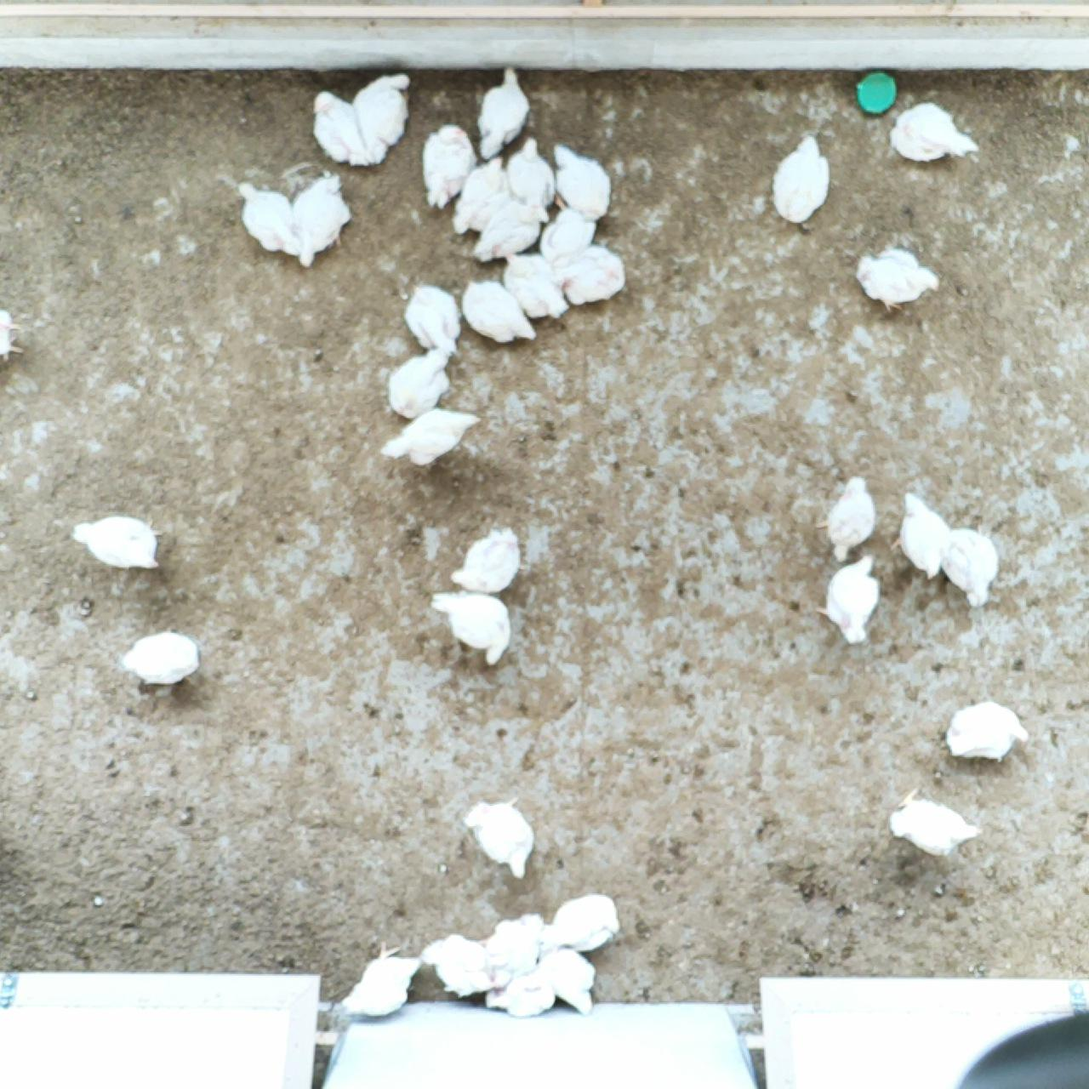chicken: (334, 936, 425, 1023), (886, 780, 984, 860), (67, 502, 166, 579), (460, 792, 540, 885), (426, 586, 514, 670), (813, 549, 883, 649), (288, 168, 353, 274), (347, 69, 412, 172), (853, 242, 944, 315), (381, 406, 483, 470), (385, 337, 460, 422), (769, 132, 832, 232), (942, 698, 1032, 767), (886, 100, 981, 165), (117, 624, 209, 691), (459, 274, 540, 349), (473, 64, 533, 165), (813, 473, 878, 565), (418, 929, 498, 1002), (888, 491, 952, 582), (479, 908, 550, 989), (236, 176, 305, 259), (418, 122, 481, 212), (447, 523, 523, 596), (550, 138, 616, 221), (501, 248, 572, 325), (541, 889, 623, 955), (549, 241, 629, 308), (309, 87, 373, 169), (468, 198, 547, 264), (448, 155, 510, 237), (401, 278, 465, 356), (505, 134, 559, 224), (482, 959, 557, 1021), (537, 190, 602, 261), (537, 944, 599, 1015), (0, 306, 29, 367)
